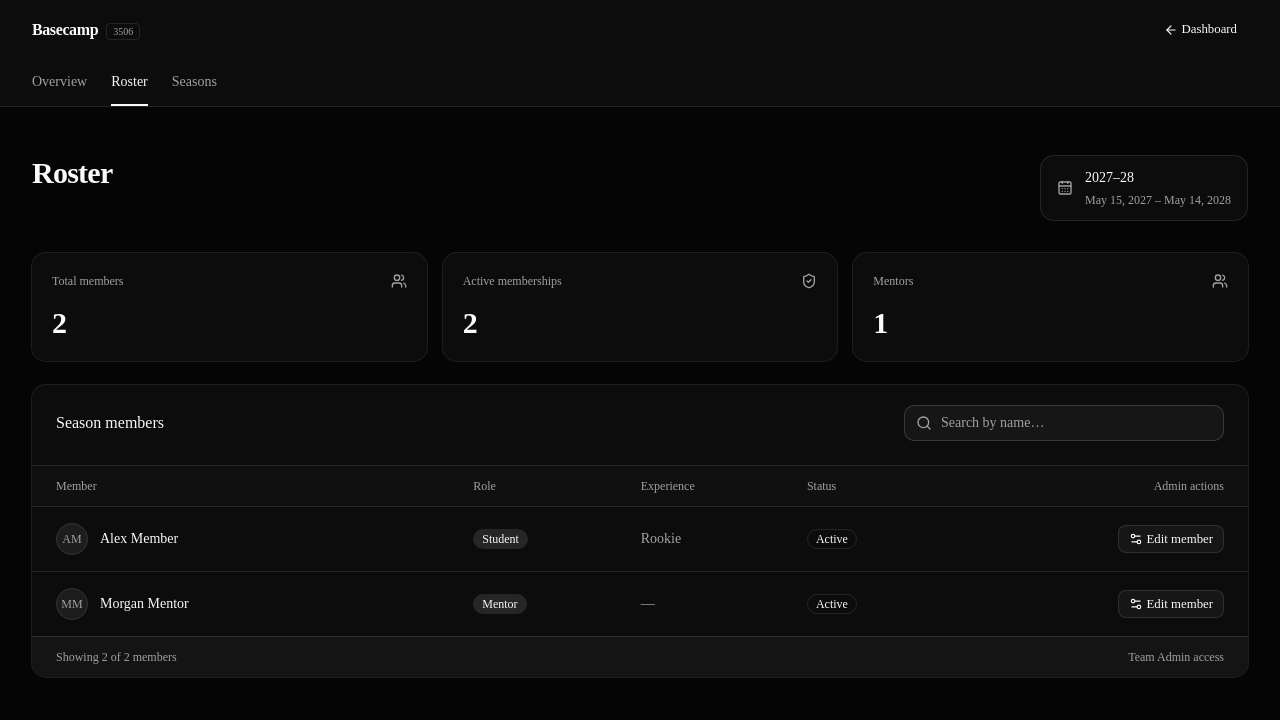
Scenario: shows no matches and recovers when cleared (canManage=true)
Type "Nobody" into the search field named "Search members" at [1064, 423], box [904,405,1224,441]
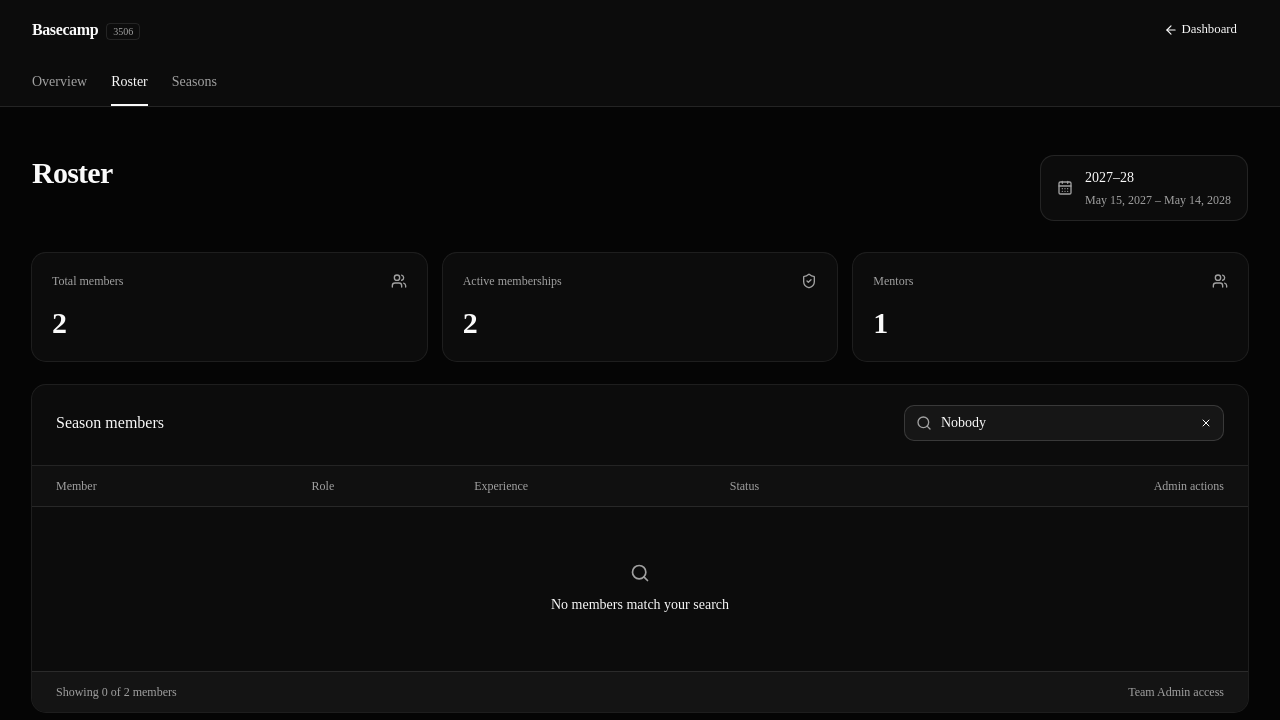
Check: the text "Alex Member" is gone
Check: the text "Morgan Mentor" is gone
Clear the search field named "Search members" at [1064, 423], box [904,405,1224,441]
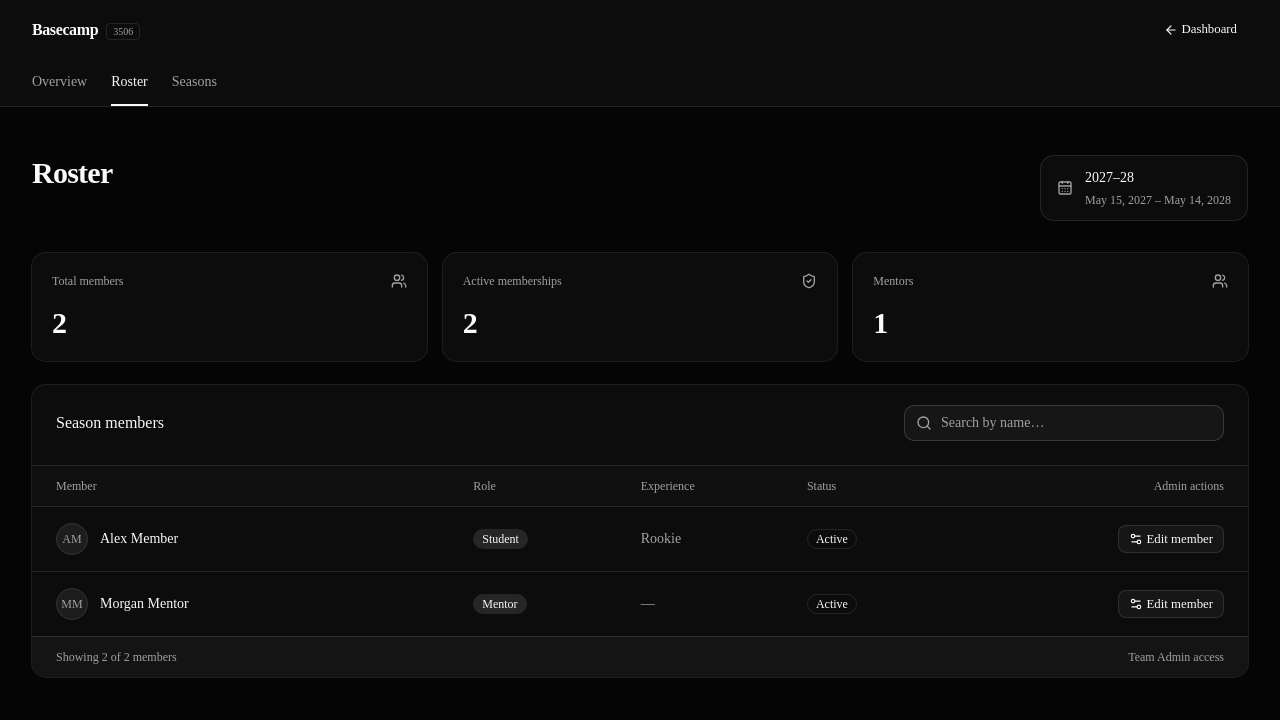
Check: the text "Alex Member" is shown, box [100,531,178,546]
Check: the text "Morgan Mentor" is shown, box [100,596,189,611]
Check: the text "No members match your search" is gone
